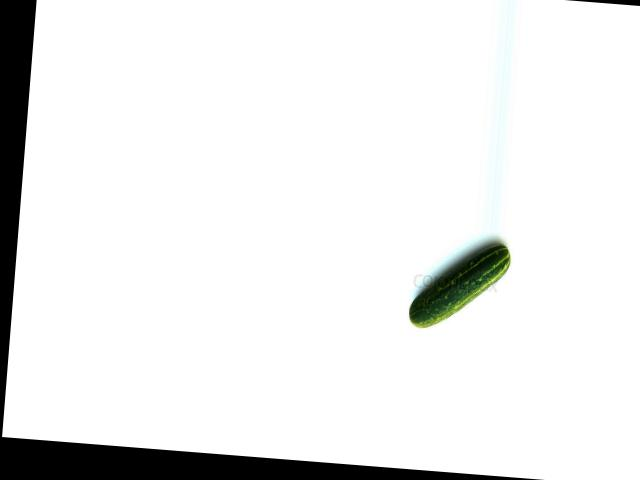cucumber: (408, 237, 512, 334)
